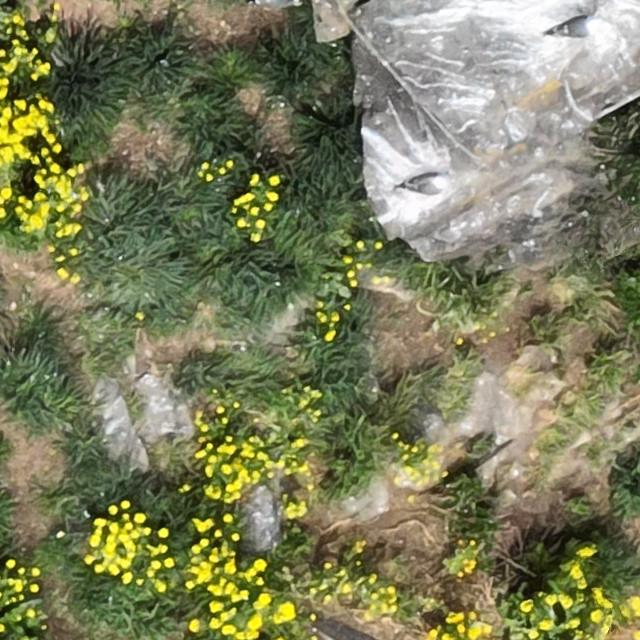umineko: (404, 177, 445, 196), (560, 19, 595, 36), (254, 0, 294, 7)
